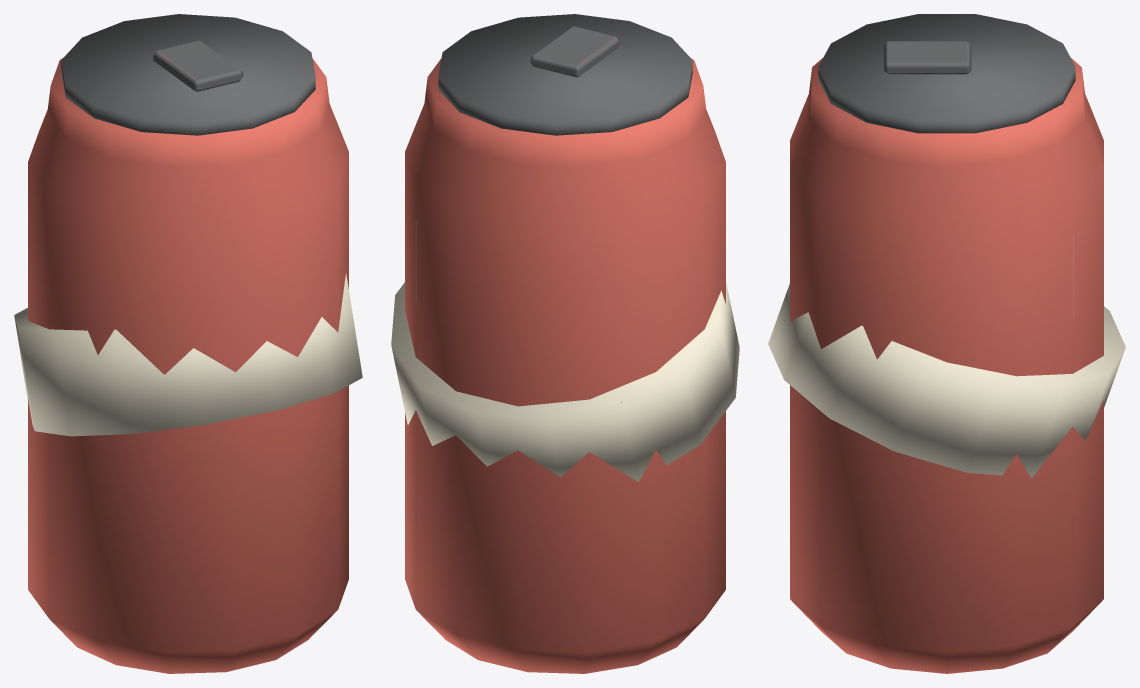
The model's file is Vendor_Can.fbx.
3 views of the same model, side by side, from view 1: azimuth 30°, elevation 25°; view 2: azimuth 150°, elevation 25°; view 3: azimuth 270°, elevation 25° (orthographic).
Parts seen in each view (by area): view 1: Vendor_Can; view 2: Vendor_Can; view 3: Vendor_Can.
Boxes of the visible parts, bbox=[...] form: Vendor_Can: bbox=[14, 14, 362, 673]; Vendor_Can: bbox=[391, 14, 739, 673]; Vendor_Can: bbox=[768, 14, 1125, 673].
Bounding box in the file's own units: 0.0682 × 0.1285 × 0.0734.
Materials: 1 (1 with a texture image).
